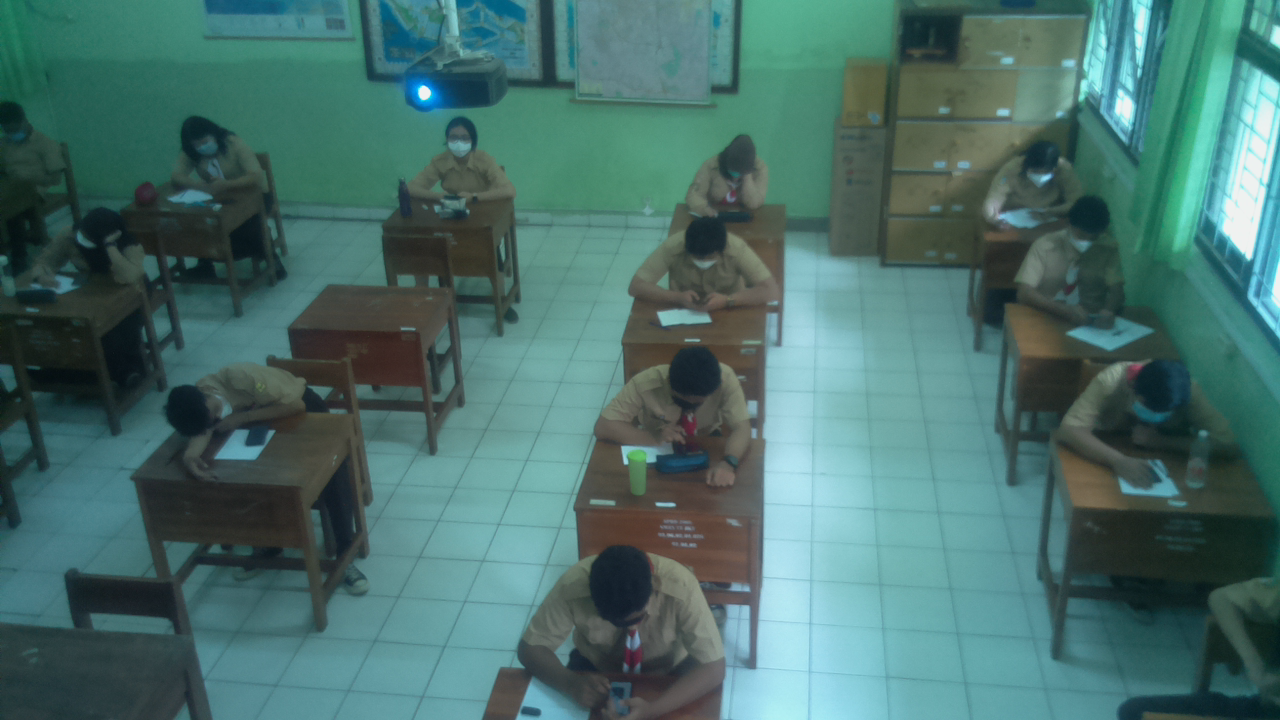Student: (537, 543, 713, 677), (623, 341, 749, 438), (1069, 359, 1205, 442), (169, 359, 326, 430), (1027, 197, 1118, 304), (651, 217, 757, 296), (425, 111, 507, 197), (169, 111, 264, 184), (51, 207, 132, 288), (0, 91, 62, 188), (985, 147, 1071, 213), (695, 135, 769, 209)
